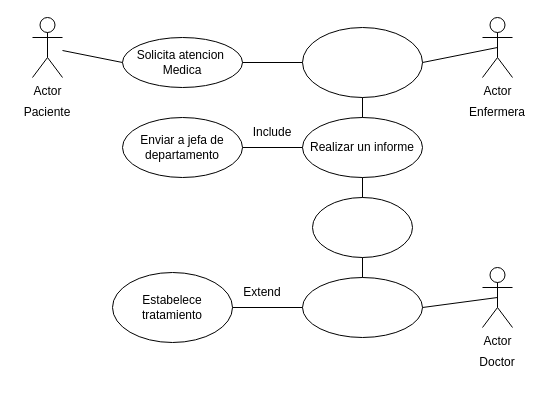
This 544x395 diagram has some shape labels left out. The shapes that lost their labels are listed below. From the top down, each one's centre as x and y in pixels, then its label:
At (362,62): "Atencion Medica y revision sintomatologia".
At (362,227): "Envia a un especialista".
At (362,307): "Diagnostica al paciente".
